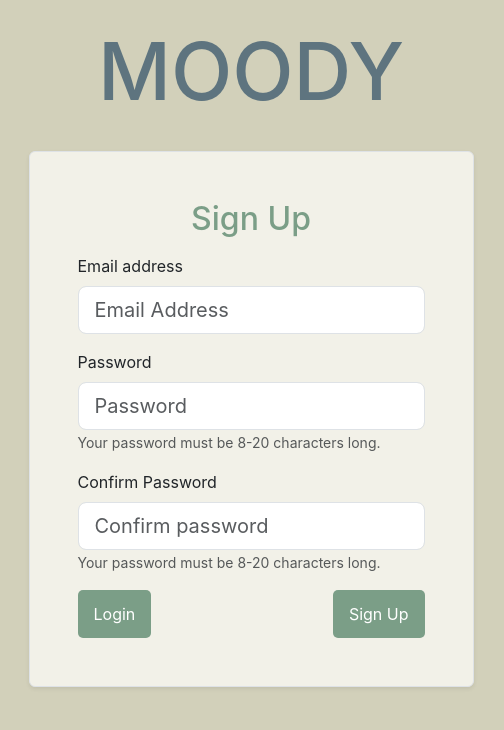
Scenario: SignUp Component › shows invalid feedback when the password is not provided
// Fill out the email but not the password
In the field with placeholder "Email address": (251, 310) [78,286,424,334], type "test@example.com"
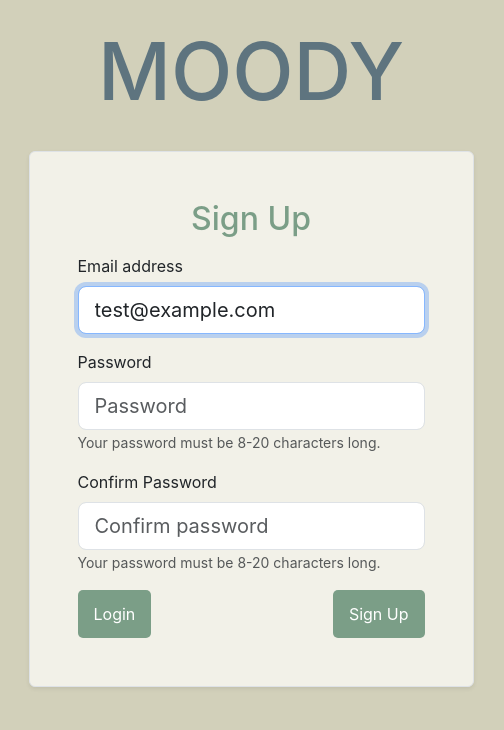
// Attempt to submit the form without filling out the password
Click the button "Sign Up": (379, 614) [333,590,424,638]
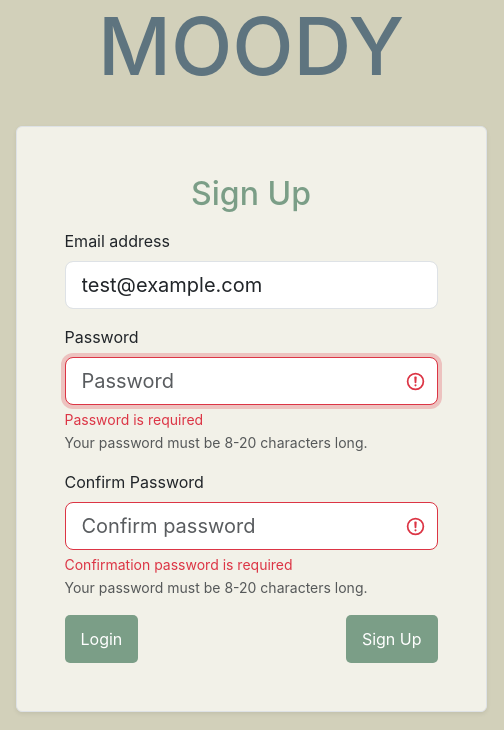
Now the text "Password is required" is shown, box [64,411,203,428]
